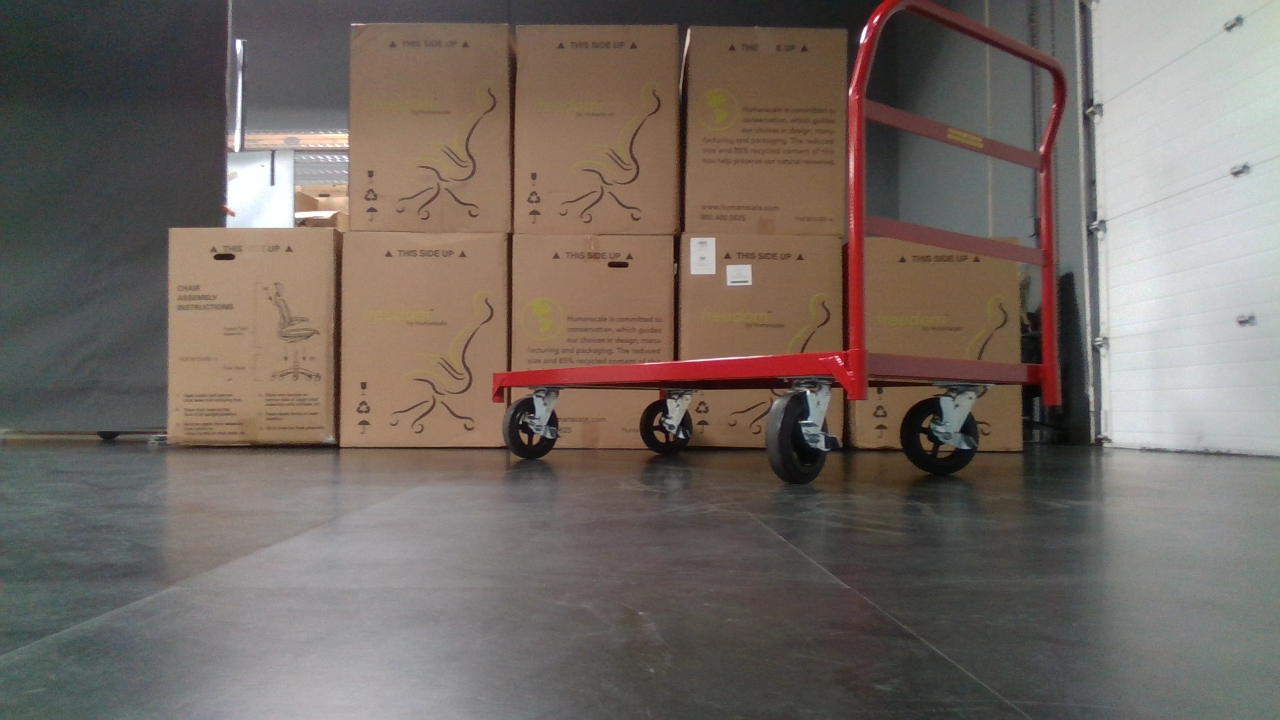Dolly: (477, 0, 1072, 484)
Wheel: (759, 382, 842, 488), (896, 382, 984, 481), (501, 384, 565, 464), (635, 390, 703, 457)
